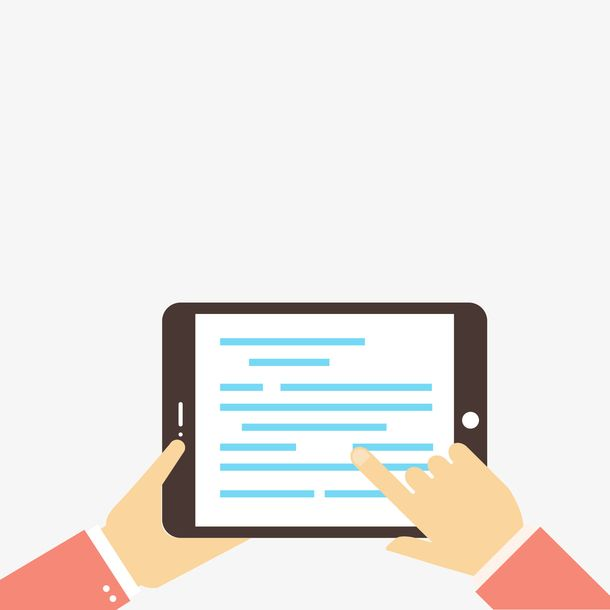pad: (105, 295, 534, 586)
